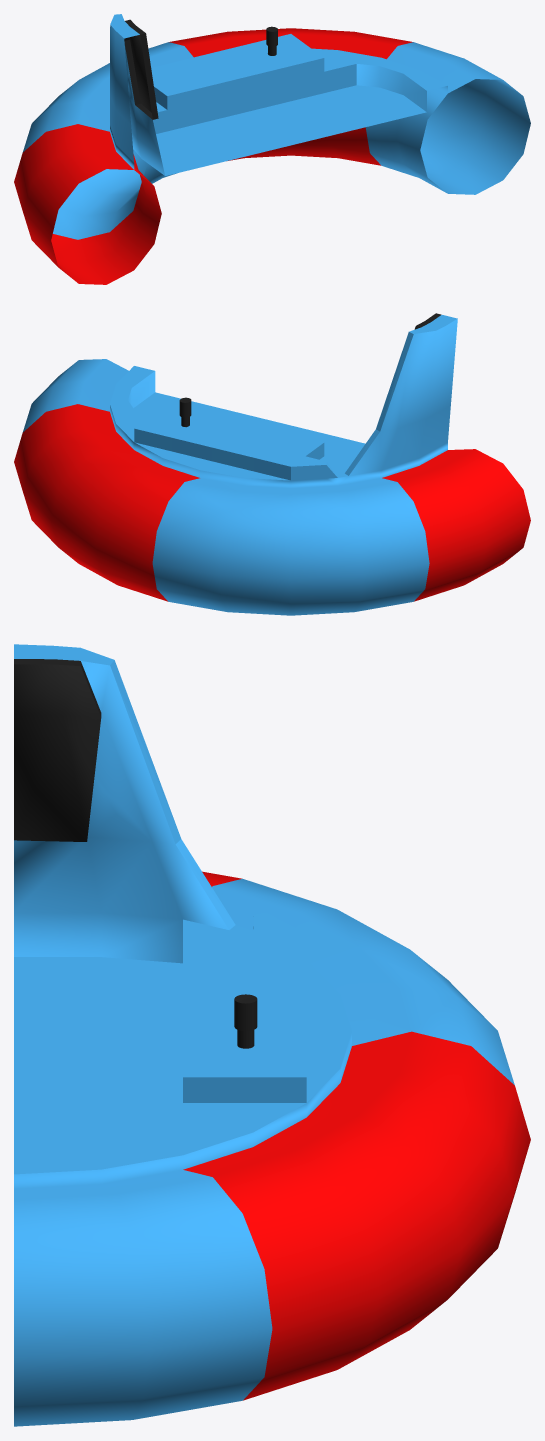
File: TorusCart_lightblue_red.dae
3 views of the same model, one above another, from view 1: azimuth 30°, elevation 25°; view 2: azimuth 150°, elevation 25°; view 3: azimuth 270°, elevation 25° (orthographic). The views are drawn at different scales.
Visible parts, largest first — view 1: Torus.001; view 2: Torus.001; view 3: Torus.001.
Boxes of the visible parts, x1=… form: Torus.001: x1=14, y1=14, x2=530, y2=284; Torus.001: x1=14, y1=313, x2=530, y2=615; Torus.001: x1=14, y1=644, x2=530, y2=1426.
Bounding box in the file's own units: 1.3 × 0.65 × 0.6266.
